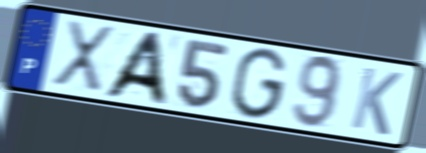5: (176, 35, 232, 112)
9: (289, 53, 344, 133)
A: (98, 30, 171, 108)
G: (227, 46, 290, 122)
K: (348, 64, 405, 139)
X: (48, 18, 117, 97)
